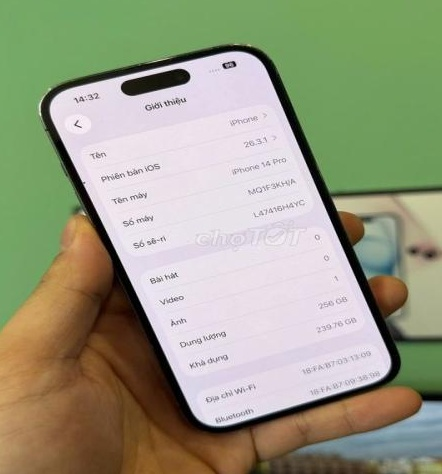screen_defect: (76, 175, 91, 188)
